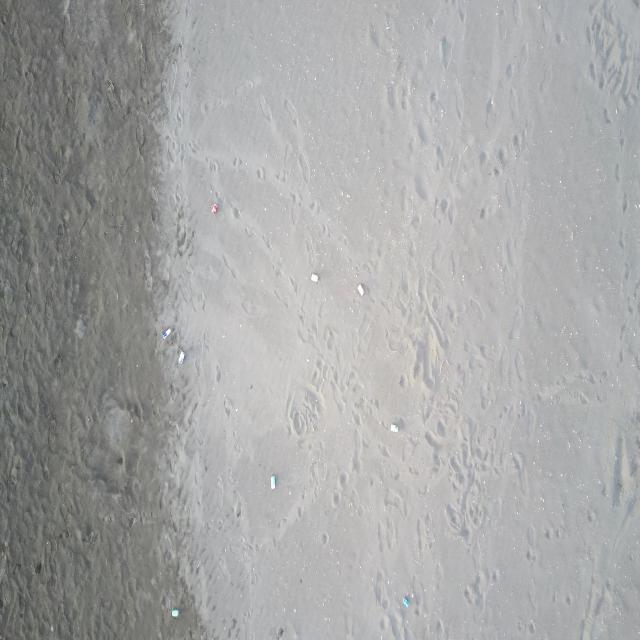tin-and-aluminum-cans: (162, 327, 173, 340), (401, 595, 411, 609), (356, 282, 365, 297), (270, 474, 277, 492), (310, 272, 319, 284), (179, 350, 186, 365), (389, 423, 399, 433), (212, 202, 219, 216), (172, 607, 180, 619)
